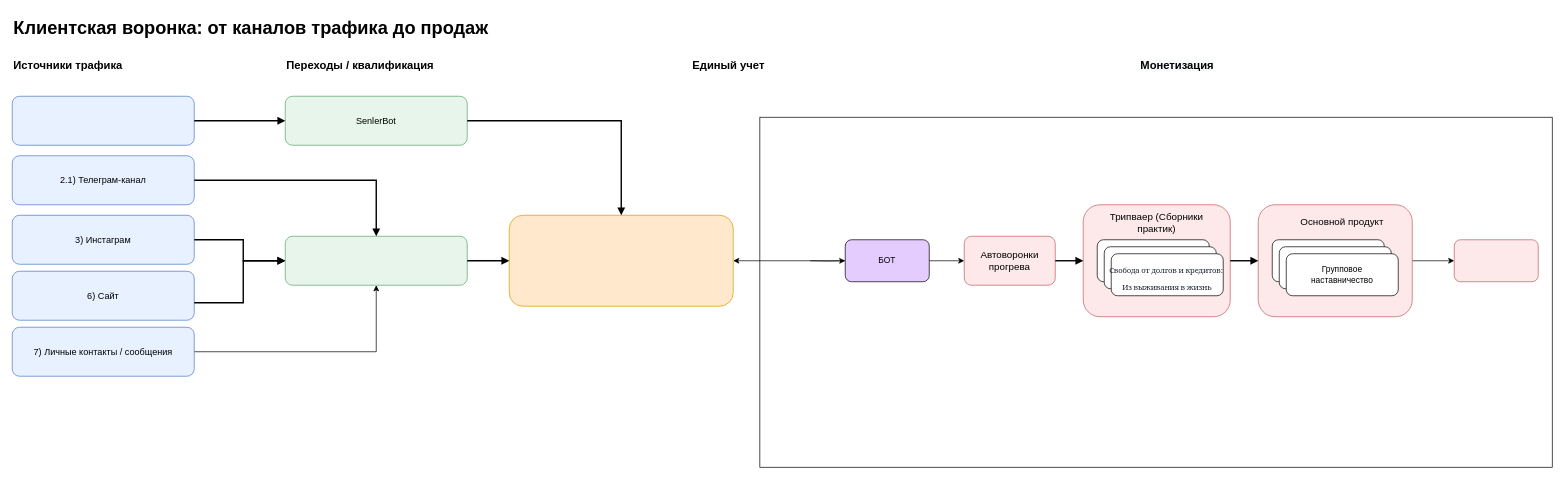
Image size: 1565x480. Some labels were removed from this diagram. The shapes that lost their labels are listed below. From the top down, each one's box as (x1, y1, x2, y2) in pixels, then its label:
(12, 96, 194, 145): 1) Группа ВК
(285, 236, 467, 285): Квиз на сайте
(509, 215, 733, 306): LeadHub (единая база лидов), мини CRM
(1454, 239, 1538, 282): LTV (Допродажи)
